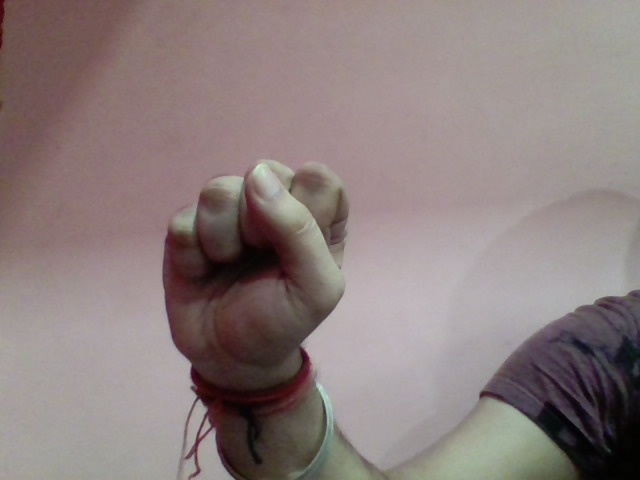s: (147, 150, 358, 388)
